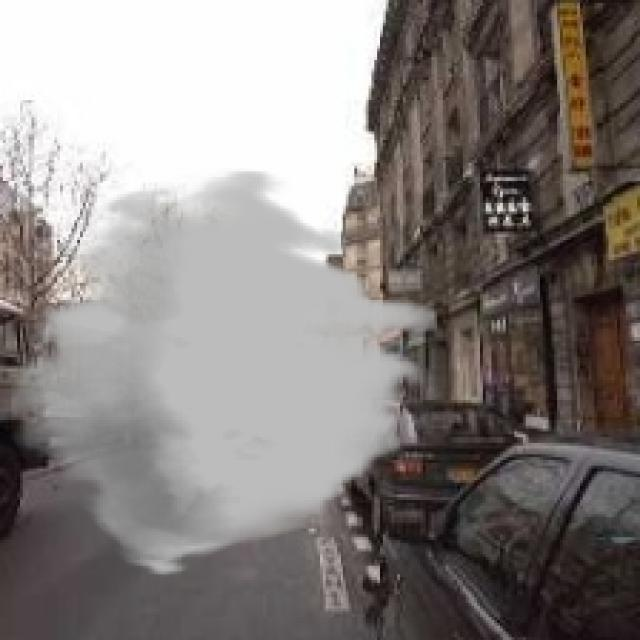Smoke: (12, 168, 437, 578)
